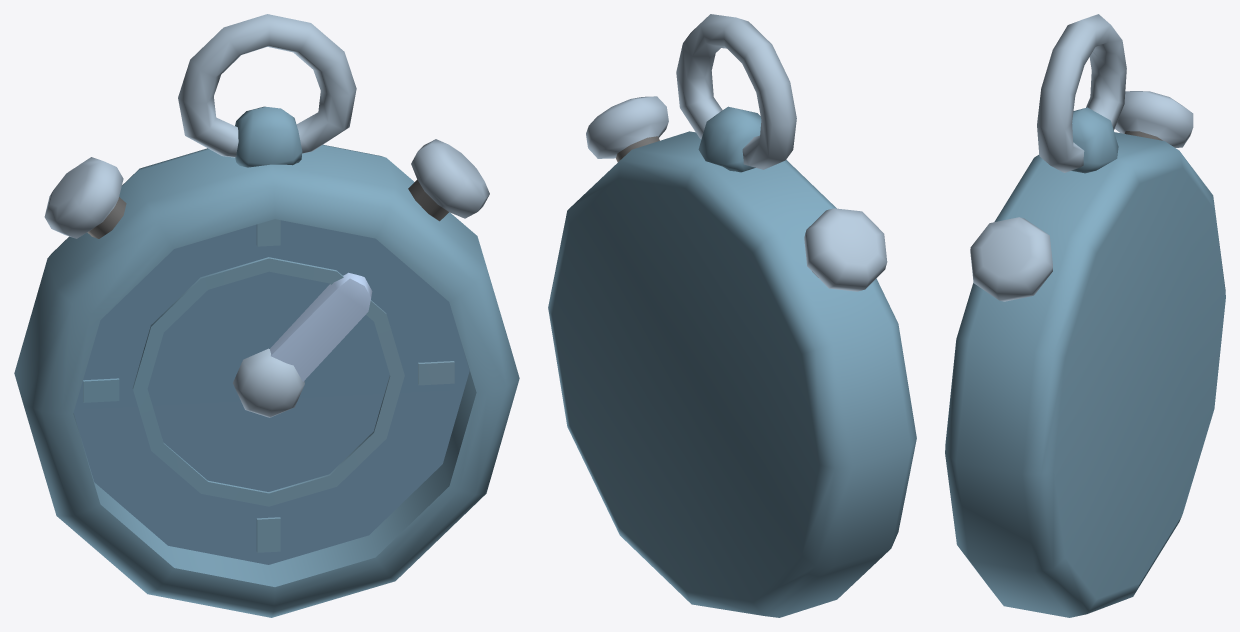
3 renders of one model, left to right at view 1: azimuth 30°, elevation 25°; view 2: azimuth 150°, elevation 25°; view 3: azimuth 270°, elevation 25°, orthographic. The views are drawn at different scales.
Parts seen in each view (by area): view 1: model_1.012; view 2: model_1.012; view 3: model_1.012.
Part boxes in pixels (x1,y1,x2,y2): model_1.012: (14, 14, 519, 617); model_1.012: (548, 14, 916, 617); model_1.012: (945, 14, 1225, 617).
Size of the model in its own units: 3.46 by 4.6 by 2.04.
